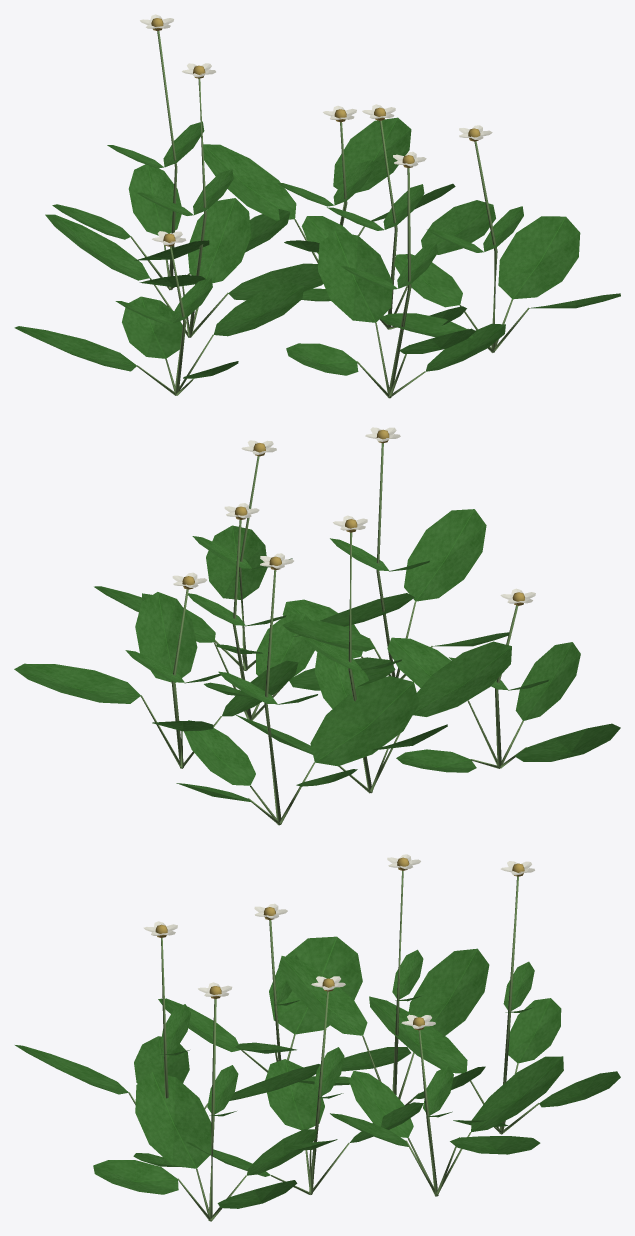
The model's file is Woodland_Forb_Flowering_01_LOD2.fbx.
3 renders of one model, top to bottom at view 1: azimuth 30°, elevation 25°; view 2: azimuth 150°, elevation 25°; view 3: azimuth 270°, elevation 25°, orthographic. The views are drawn at different scales.
Visible parts, largest first — view 1: Woodland_Forb_Flowering_01_LOD2_Mesh; view 2: Woodland_Forb_Flowering_01_LOD2_Mesh; view 3: Woodland_Forb_Flowering_01_LOD2_Mesh.
Part boxes in pixels (x1,y1,x2,y2): Woodland_Forb_Flowering_01_LOD2_Mesh: (14,14,620,398); Woodland_Forb_Flowering_01_LOD2_Mesh: (14,427,620,825); Woodland_Forb_Flowering_01_LOD2_Mesh: (15,854,620,1221).
Bounding box in the file's own units: 69.32 × 33.43 × 68.48.
Materials: 4 (1 with a texture image).
